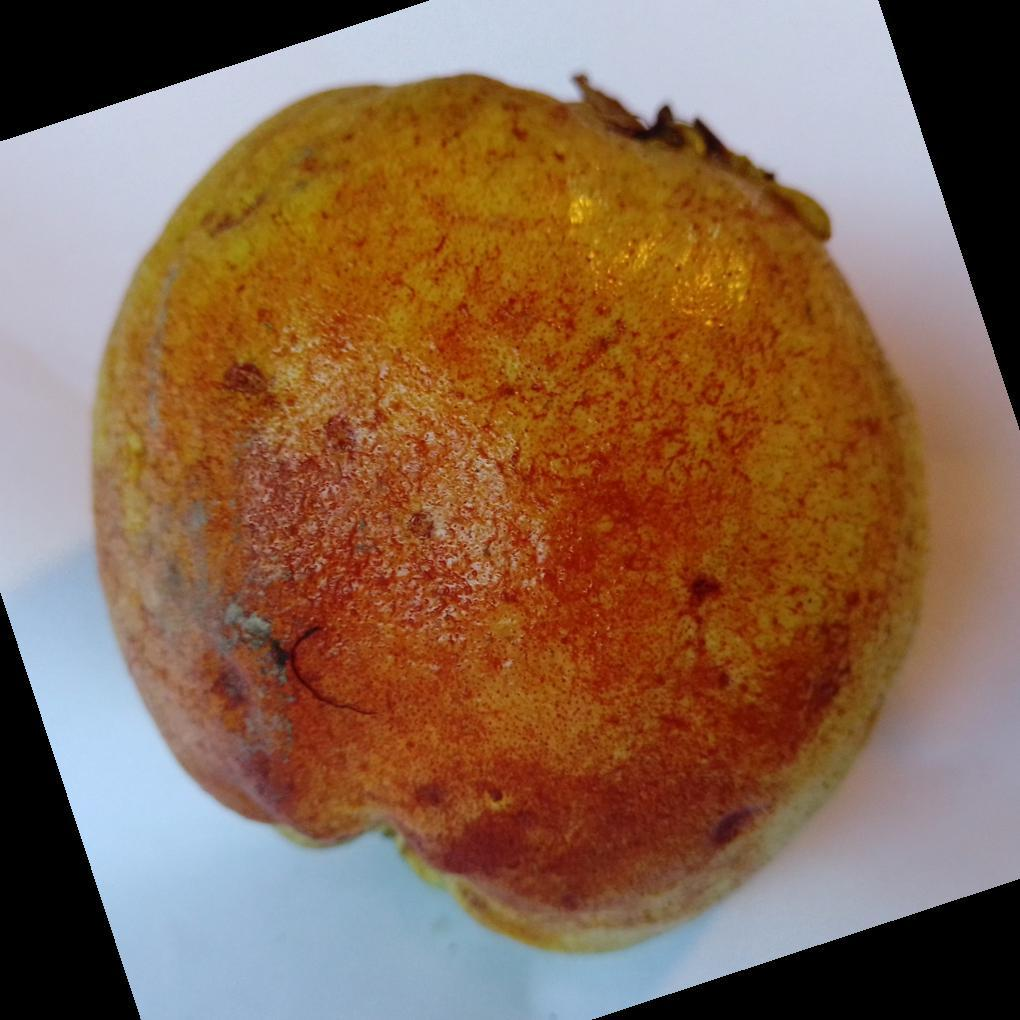FreshOrange: (85, 72, 932, 959)
